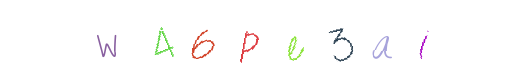3: (225, 0, 305, 80)
4: (181, 0, 261, 80)
6: (181, 0, 261, 80)
A: (254, 0, 334, 80)
E: (199, 0, 279, 80)
I: (302, 0, 382, 80)
P: (189, 0, 269, 80)
W: (180, 0, 260, 80)
